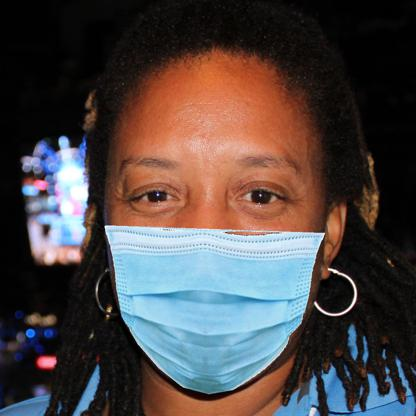mask: (100, 223, 323, 394)
